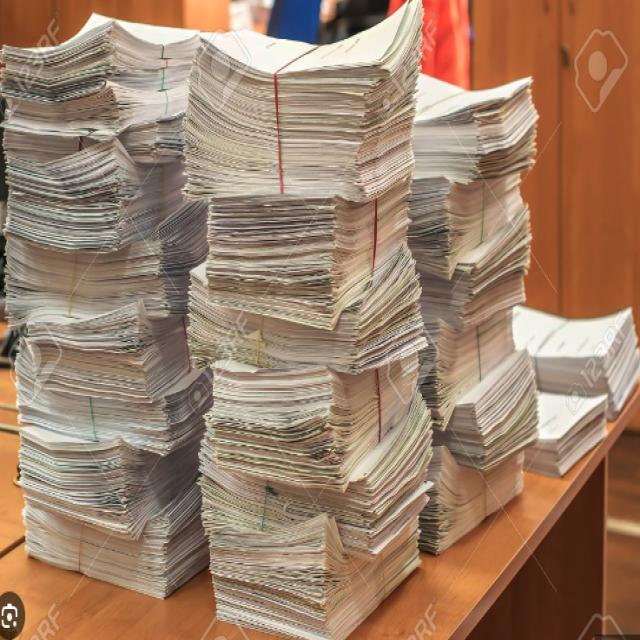KertasBekas: (2, 3, 544, 637), (181, 3, 434, 637), (1, 14, 212, 600), (407, 70, 540, 555)
